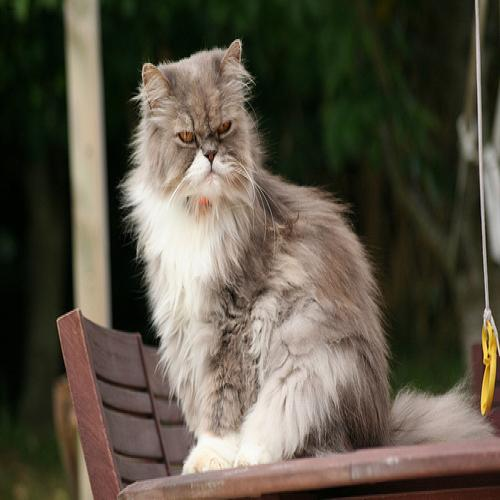persian: (124, 36, 260, 215)
